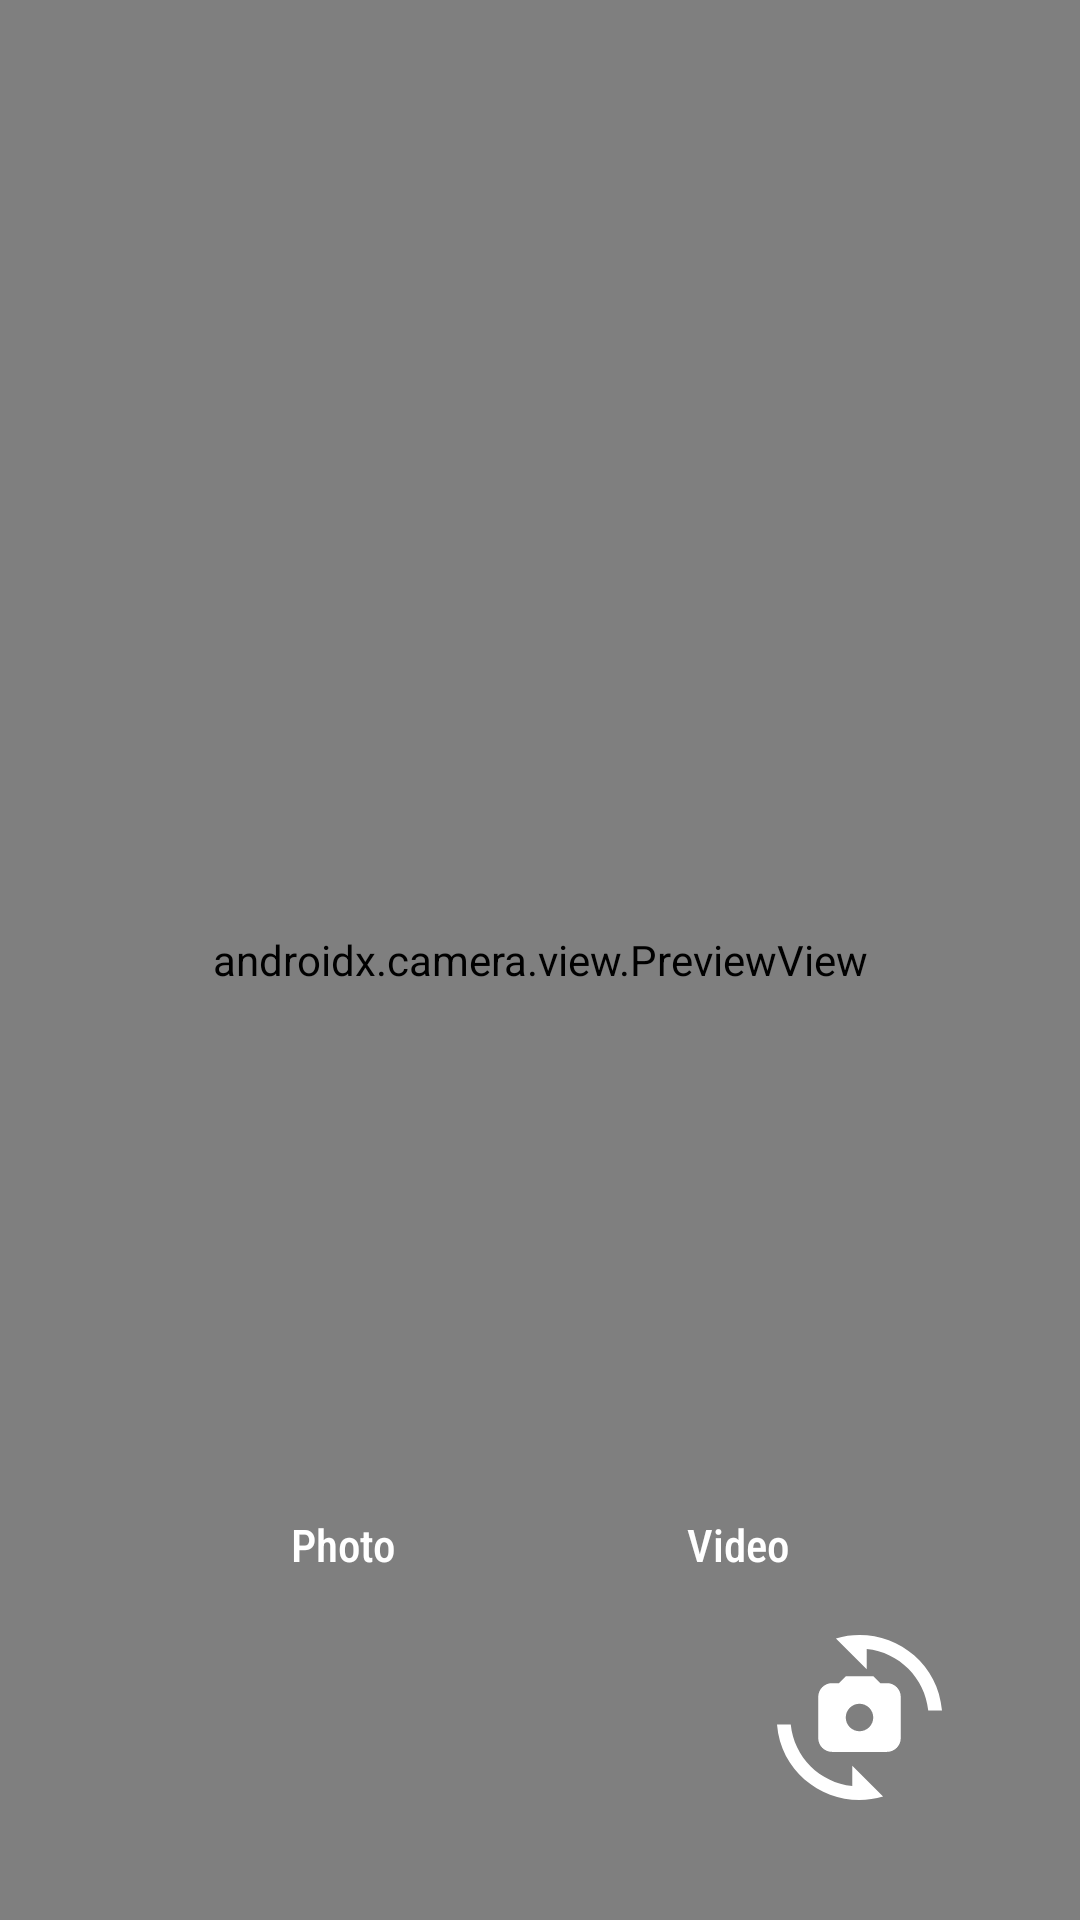

Icons on this 1080 x 1920 Android screen, each with the point to tap as (x=x, y=y):
switch: (x=859, y=1717)
